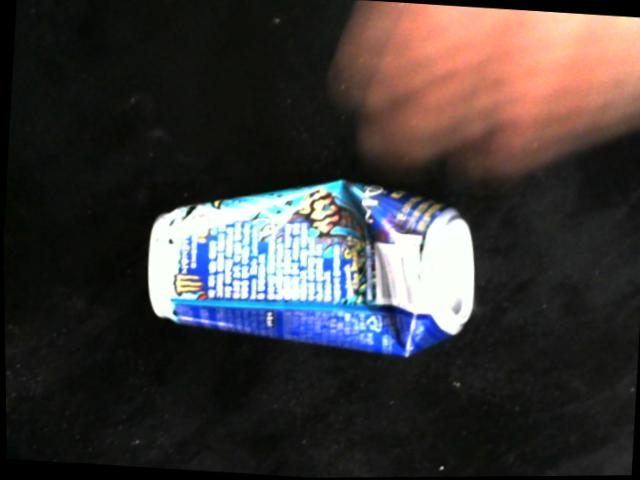can: (145, 179, 476, 359)
